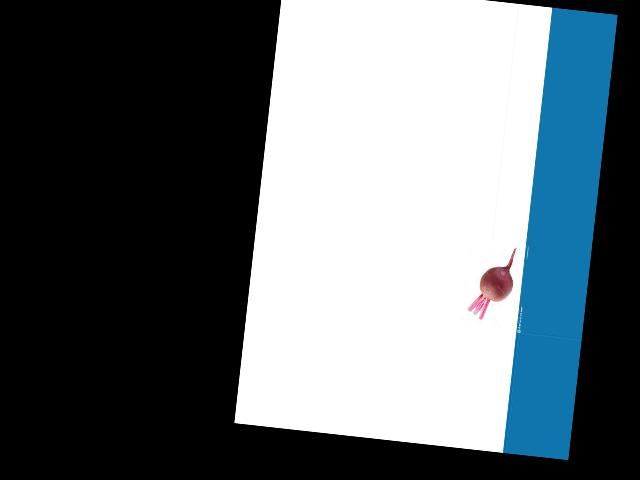beet: (467, 243, 516, 322)
